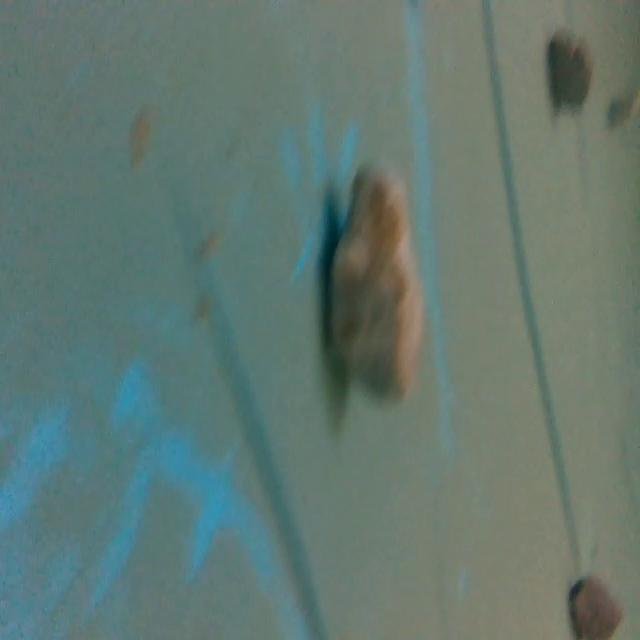rock: (316, 148, 434, 404)
